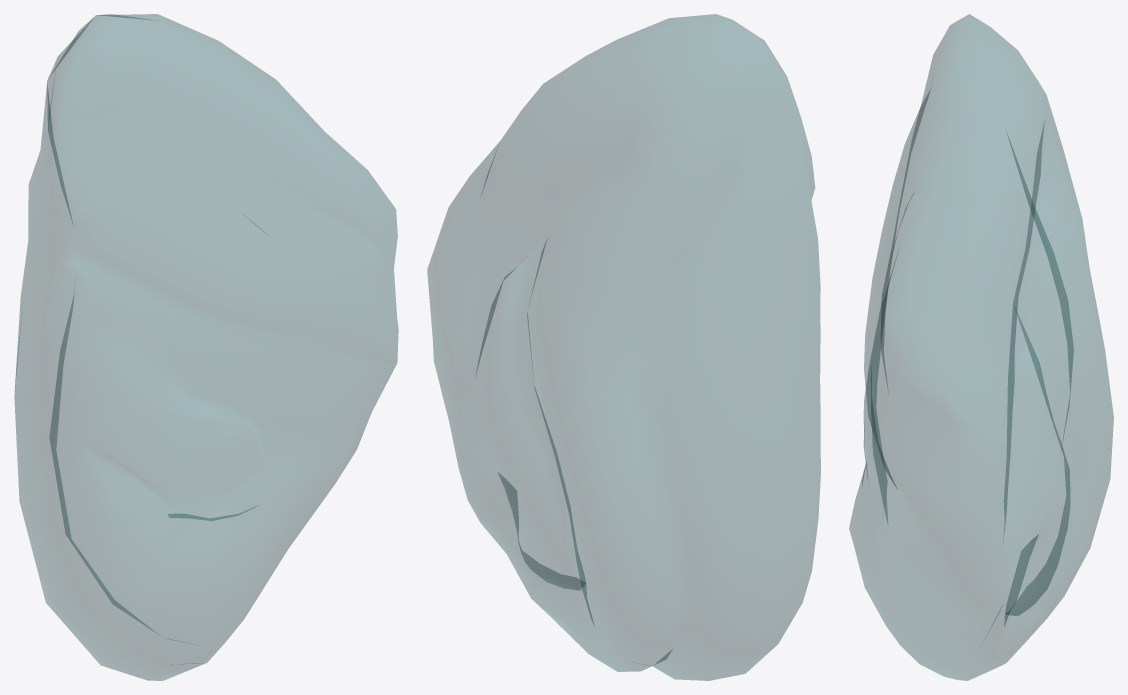
Rendered from Transperent Occipital_Lob.gltf.
3 views of the same model, side by side, from view 1: azimuth 30°, elevation 25°; view 2: azimuth 150°, elevation 25°; view 3: azimuth 270°, elevation 25° (orthographic). The views are drawn at different scales.
Visible parts, largest first — view 1: Occipital_Lob_Left; view 2: Occipital_Lob_Left; view 3: Occipital_Lob_Left.
Part boxes in pixels (x1,y1,x2,y2): Occipital_Lob_Left: (14, 14, 398, 680); Occipital_Lob_Left: (427, 14, 820, 680); Occipital_Lob_Left: (849, 14, 1113, 680).
Bounding box in the file's own units: 4.24 × 7.45 × 2.87.
